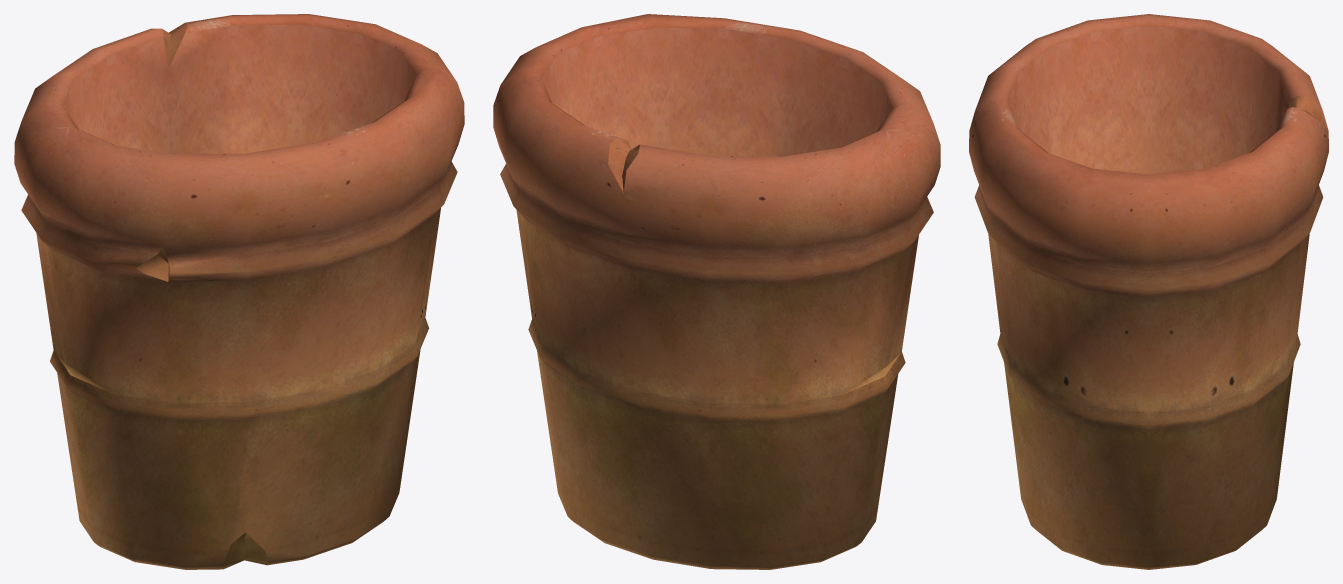
Rendered from Terracotta Plantpot.dae.
3 views of the same model, side by side, from view 1: azimuth 30°, elevation 25°; view 2: azimuth 150°, elevation 25°; view 3: azimuth 270°, elevation 25° (orthographic). The views are drawn at different scales.
Visible parts, largest first — view 1: Plants Pot; view 2: Plants Pot; view 3: Plants Pot.
Boxes of the visible parts, left/top/right/bottom form: Plants Pot: left=14, top=14, right=464, bottom=569; Plants Pot: left=493, top=14, right=940, bottom=569; Plants Pot: left=969, top=14, right=1328, bottom=569.
Bounding box in the file's own units: 5.08 × 4.05 × 5.07.
Materials: 1 (1 with a texture image).
